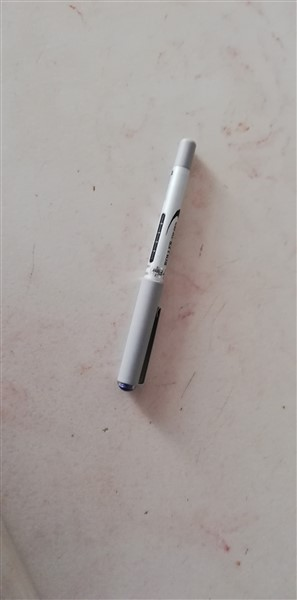pilot kalem: (110, 134, 208, 394)
